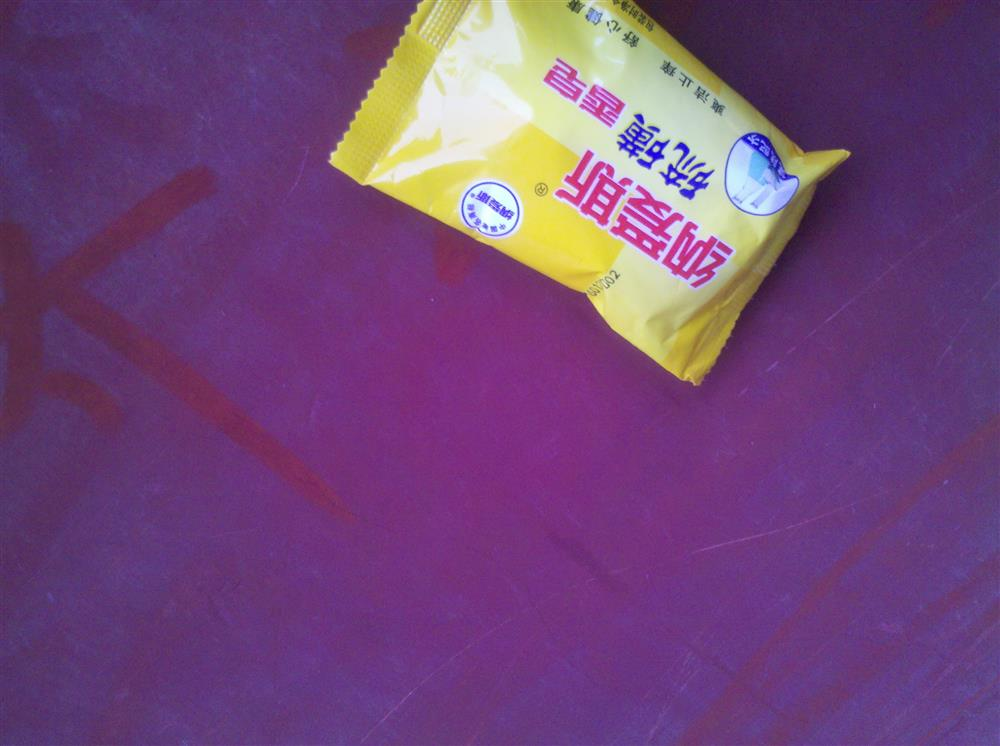nice_soap: (319, 3, 852, 387)
